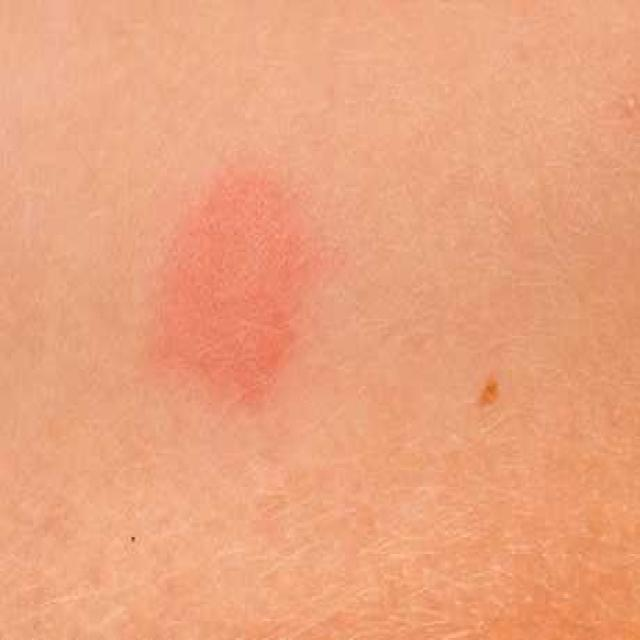sinek: (169, 186, 315, 389)
